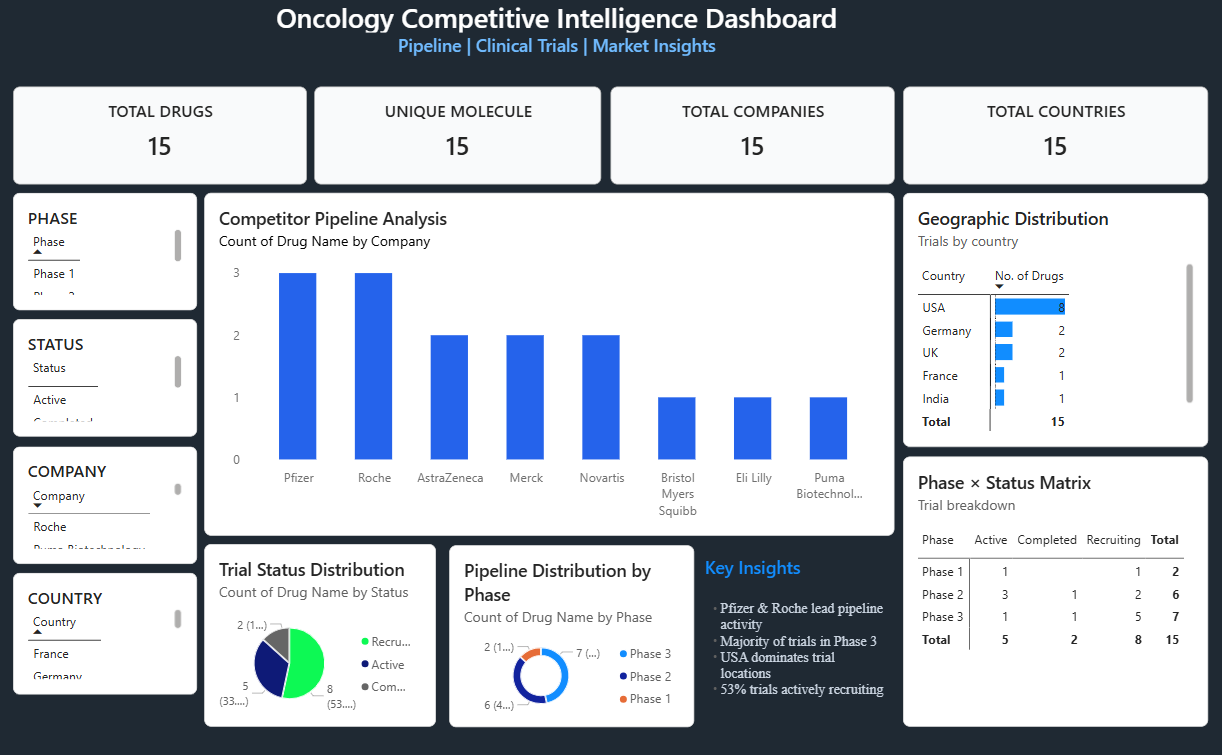

The dashboard page shown, as its layout file describes it:
{"tool":"powerbi","page":{"name":"Page 1","canvas":[1400,900],"ordinal":0},"visuals":[{"type":"columnChart","title":"Competitor Pipeline Analysis","fields":{"Category":["Sheet1.Company"],"Y":["CountNonNull(Sheet1.Drug Name)"]},"box":[236.2,246.2,788.8,391.2],"z":0},{"type":"donutChart","title":"Pipeline Distribution by Phase","fields":{"Category":["Sheet1.Phase"],"Y":["CountNonNull(Sheet1.Drug Name)"]},"box":[516.2,653.8,280,207.5],"z":1000},{"type":"pieChart","title":"Trial Status Distribution","fields":{"Category":["Sheet1.Status"],"Y":["CountNonNull(Sheet1.Drug Name)"]},"box":[236.2,653.8,265,207.5],"z":2000},{"type":"textbox","title":"Oncology Competitive Intelligence Dashboard","box":[20,16.7,1363.3,38.3],"z":4000},{"type":"textbox","title":"Pipeline | Clinical Trials | Market Insights","box":[20,55,1361.7,51.7],"z":5000},{"type":"card","title":"       TOTAL DRUGS","fields":{"Values":["CountNonNull(Sheet1.Drug Name)"]},"box":[17.5,118.8,330,112.5],"z":6000},{"type":"card","title":"      UNIQUE MOLECULE","fields":{"Values":["CountNonNull(Sheet1.Drug Name)"]},"box":[356.2,118.8,323.8,112.5],"z":7000},{"type":"card","title":"      TOTAL COMPANIES","fields":{"Values":["Count(Sheet1.Company)"]},"box":[690,118.8,335,112.5],"z":8000},{"type":"card","title":"       TOTAL COUNTRIES","fields":{"Values":["Count(Sheet1.Country)"]},"box":[1033.8,118.8,348.8,112.5],"z":9000},{"type":"tableEx","title":"PHASE","fields":{"Values":["Sheet1.Phase"]},"box":[17.5,246.2,201.2,143.8],"z":10000},{"type":"tableEx","title":"STATUS","fields":{"Values":["Sheet1.Status"]},"box":[17.5,405,201.2,131.2],"z":11000},{"type":"tableEx","title":"COMPANY","fields":{"Values":["Sheet1.Company"]},"box":[18.8,552.5,200,146.2],"z":12000},{"type":"tableEx","title":"COUNTRY","fields":{"Values":["Sheet1.Country"]},"box":[20,715,198.8,146.2],"z":13000},{"type":"pivotTable","title":"Geographic Distribution","fields":{"Rows":["Sheet1.Country"],"Values":["CountNonNull(Sheet1.Drug Name)"]},"box":[1043.8,246.2,337.5,315],"z":14000},{"type":"pivotTable","title":"Phase × Status Matrix","fields":{"Columns":["Sheet1.Status"],"Rows":["Sheet1.Phase"],"Values":["CountNonNull(Sheet1.Drug Name)"]},"box":[1043.8,577.5,338.8,283.8],"z":14001},{"type":"textbox","title":"Key Insights","box":[796.2,651.2,228.8,210],"z":14002}]}

Visuals, with their boxes on the page's 1400x900 design canvas (x1, y1, x2, y2). These are canvas units, not pixel positions in the 1222x755 screenshot, which may show the page scaled, cropped or inside an application window:
"Competitor Pipeline Analysis" columnChart: [236, 246, 1025, 637]
"Pipeline Distribution by Phase" donutChart: [516, 654, 796, 861]
"Trial Status Distribution" pieChart: [236, 654, 501, 861]
"Oncology Competitive Intelligence Dashboard" textbox: [20, 17, 1383, 55]
"Pipeline | Clinical Trials | Market Insights" textbox: [20, 55, 1382, 107]
"       TOTAL DRUGS" card: [18, 119, 348, 231]
"      UNIQUE MOLECULE" card: [356, 119, 680, 231]
"      TOTAL COMPANIES" card: [690, 119, 1025, 231]
"       TOTAL COUNTRIES" card: [1034, 119, 1383, 231]
"PHASE" tableEx: [18, 246, 219, 390]
"STATUS" tableEx: [18, 405, 219, 536]
"COMPANY" tableEx: [19, 552, 219, 699]
"COUNTRY" tableEx: [20, 715, 219, 861]
"Geographic Distribution" pivotTable: [1044, 246, 1381, 561]
"Phase × Status Matrix" pivotTable: [1044, 578, 1383, 861]
"Key Insights" textbox: [796, 651, 1025, 861]
